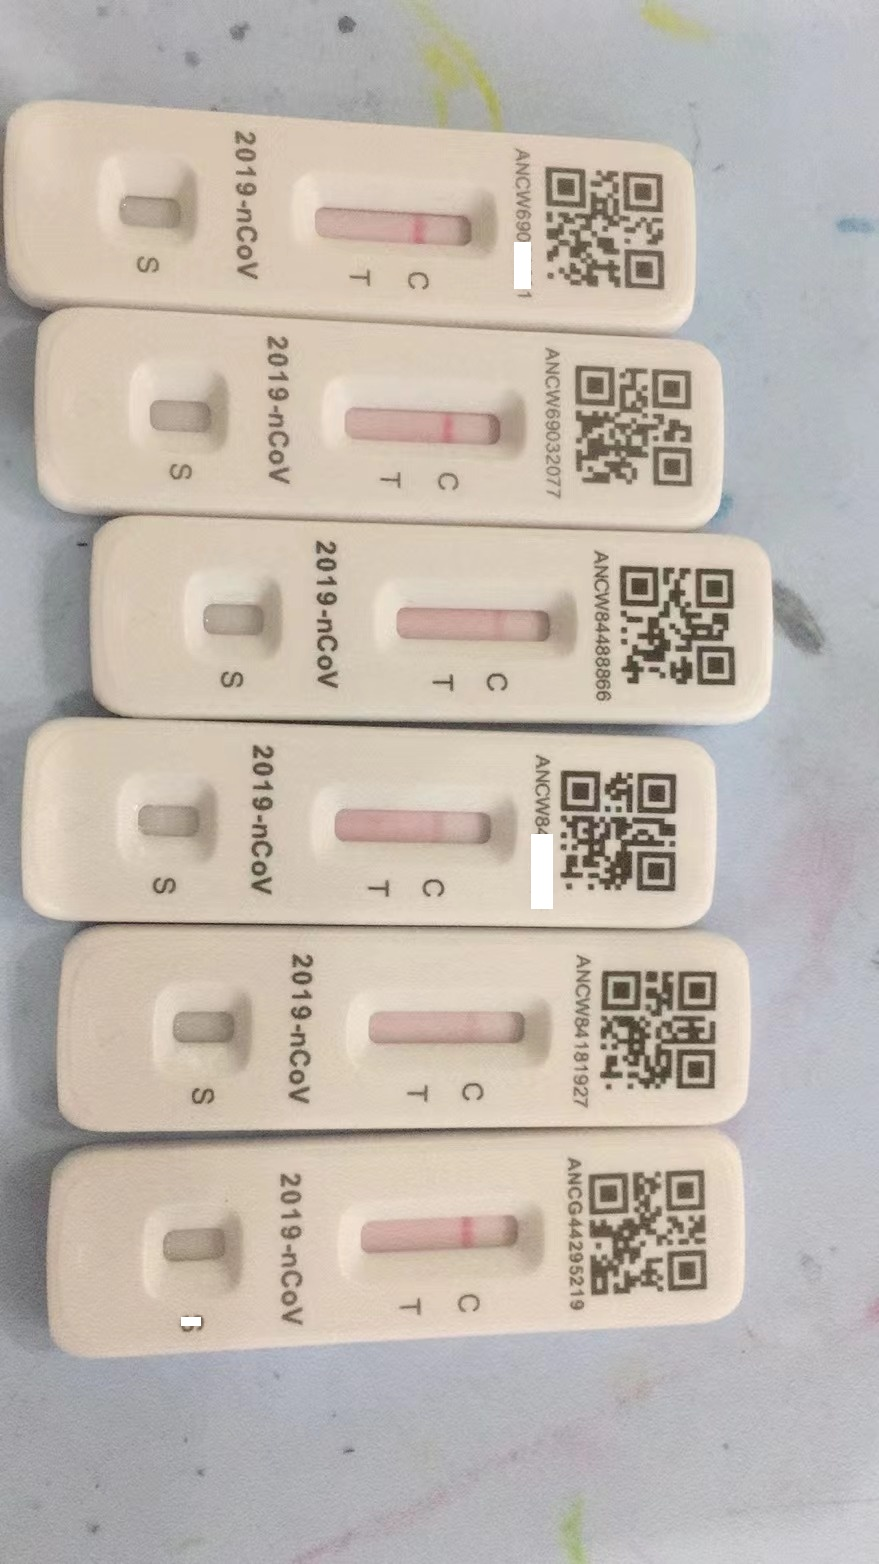negative: (280, 182, 507, 260), (319, 382, 534, 454), (315, 801, 518, 858), (345, 1210, 531, 1269), (345, 1003, 547, 1053)
